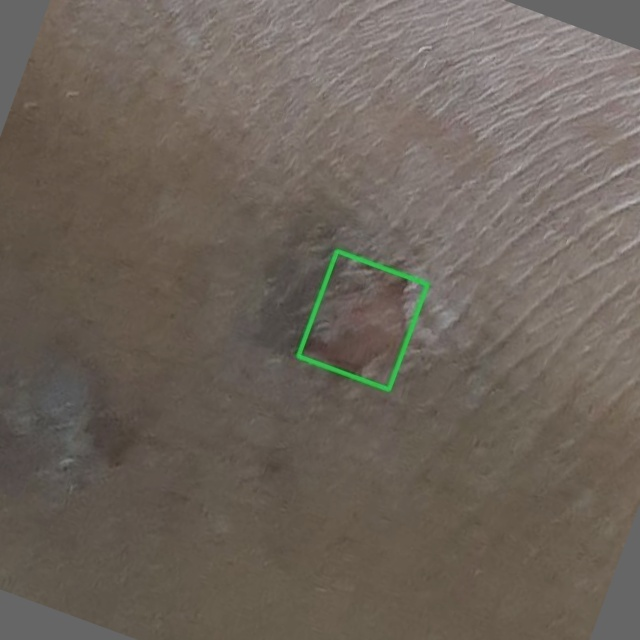Eczema: (298, 250, 427, 389)
